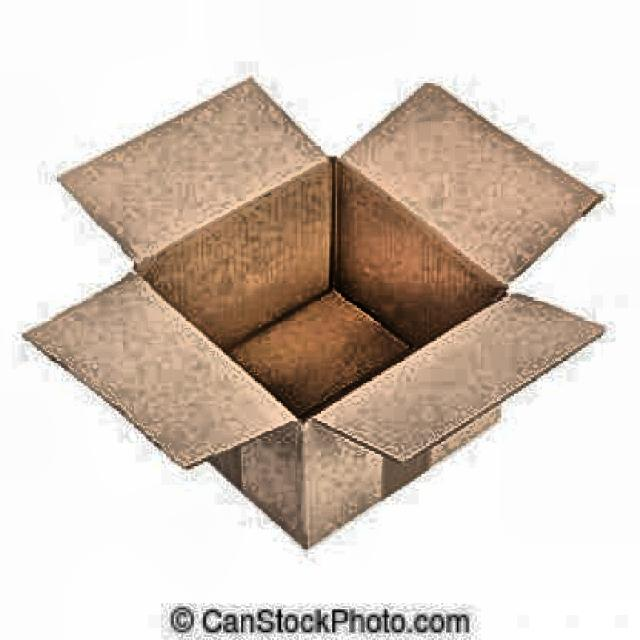Cardbox: (15, 76, 607, 548)
